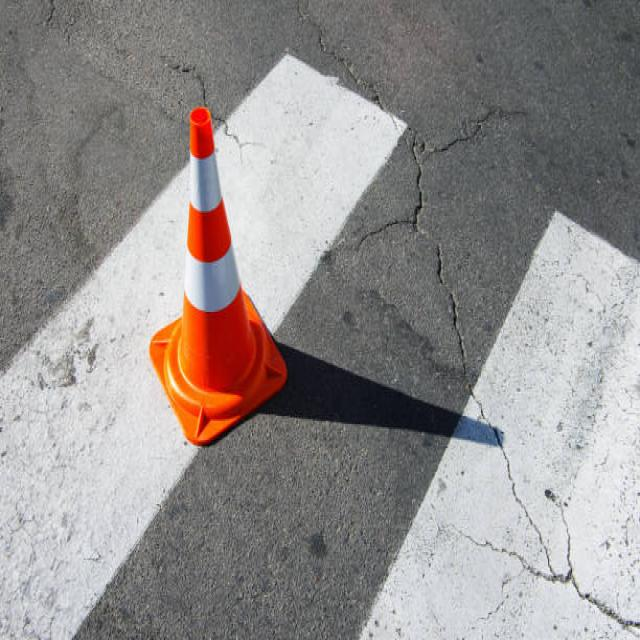Traffic Cone: (127, 53, 310, 473)
